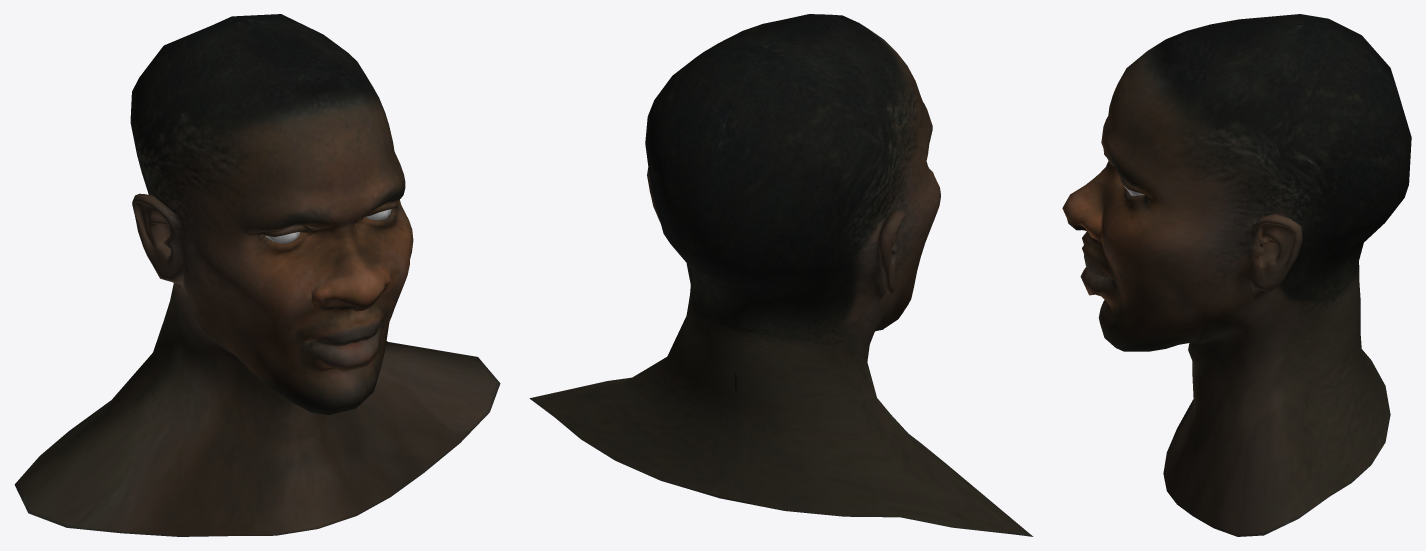
The model's file is patient_head_06.fbx.
The picture shows the model from 3 angles, left to right: view 1: azimuth 30°, elevation 25°; view 2: azimuth 150°, elevation 25°; view 3: azimuth 270°, elevation 25°; orthographic projection. The views are drawn at different scales.
Parts seen in each view (by area): view 1: head; view 2: head; view 3: head.
Part boxes in pixels (x1=…): head: x1=14, y1=14, x2=500, y2=536; head: x1=529, y1=14, x2=1033, y2=536; head: x1=1062, y1=14, x2=1411, y2=536.
Size of the model in its own units: 0.3377 by 0.3145 by 0.2218.
